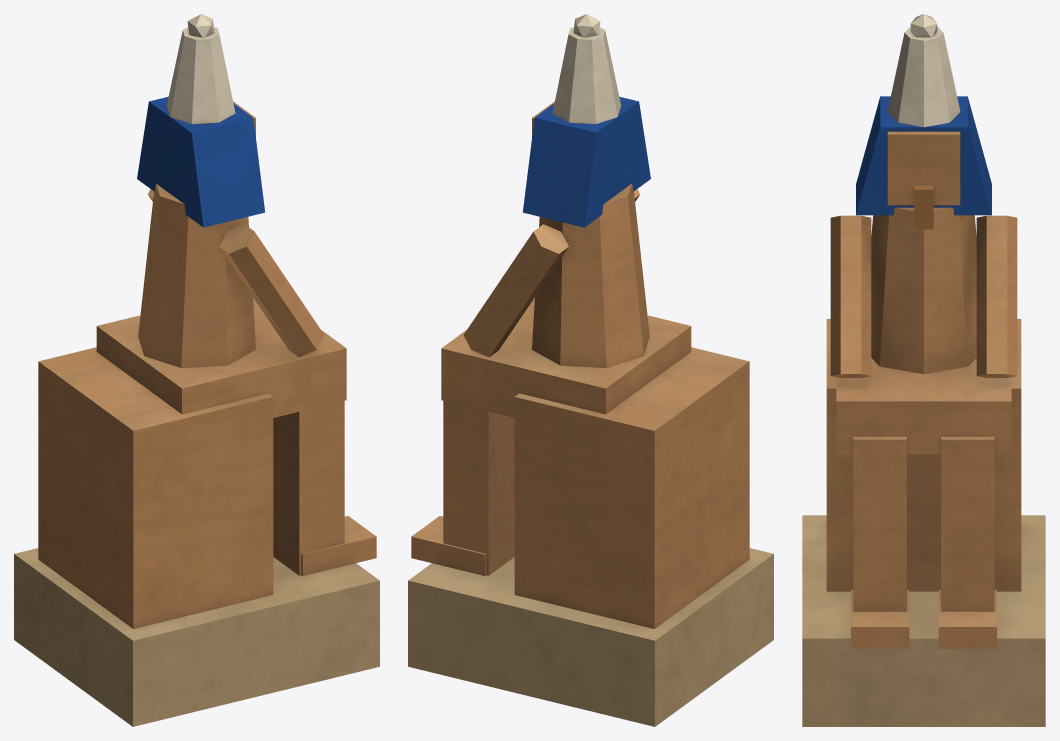
The model's file is staty_farao_tex.glb.
3 views of the same model, side by side, from view 1: azimuth 30°, elevation 25°; view 2: azimuth 150°, elevation 25°; view 3: azimuth 270°, elevation 25° (orthographic). The views are drawn at different scales.
Parts seen in each view (by area): view 1: staty_farao; view 2: staty_farao; view 3: staty_farao.
Part boxes in pixels (box(x1,y1,x2,y2)): staty_farao: box(14, 14, 379, 726); staty_farao: box(408, 14, 773, 726); staty_farao: box(802, 14, 1045, 726).
Bounding box in the file's own units: 6.5 × 14.82 × 5.
Materials: 5 (4 with a texture image).
